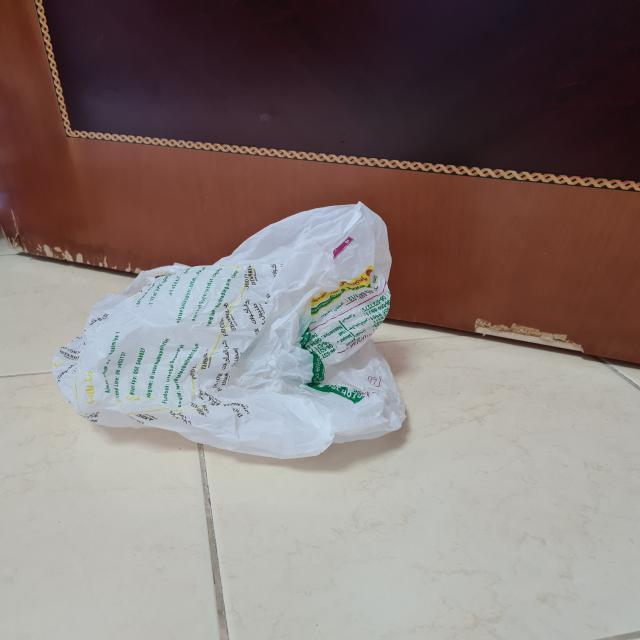Plastic_Bag: (54, 191, 408, 461)
